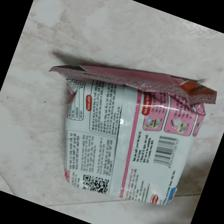Haohao: (50, 62, 218, 208)
